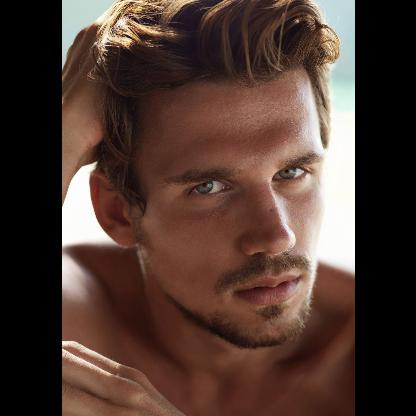Male: (86, 74, 320, 350)
